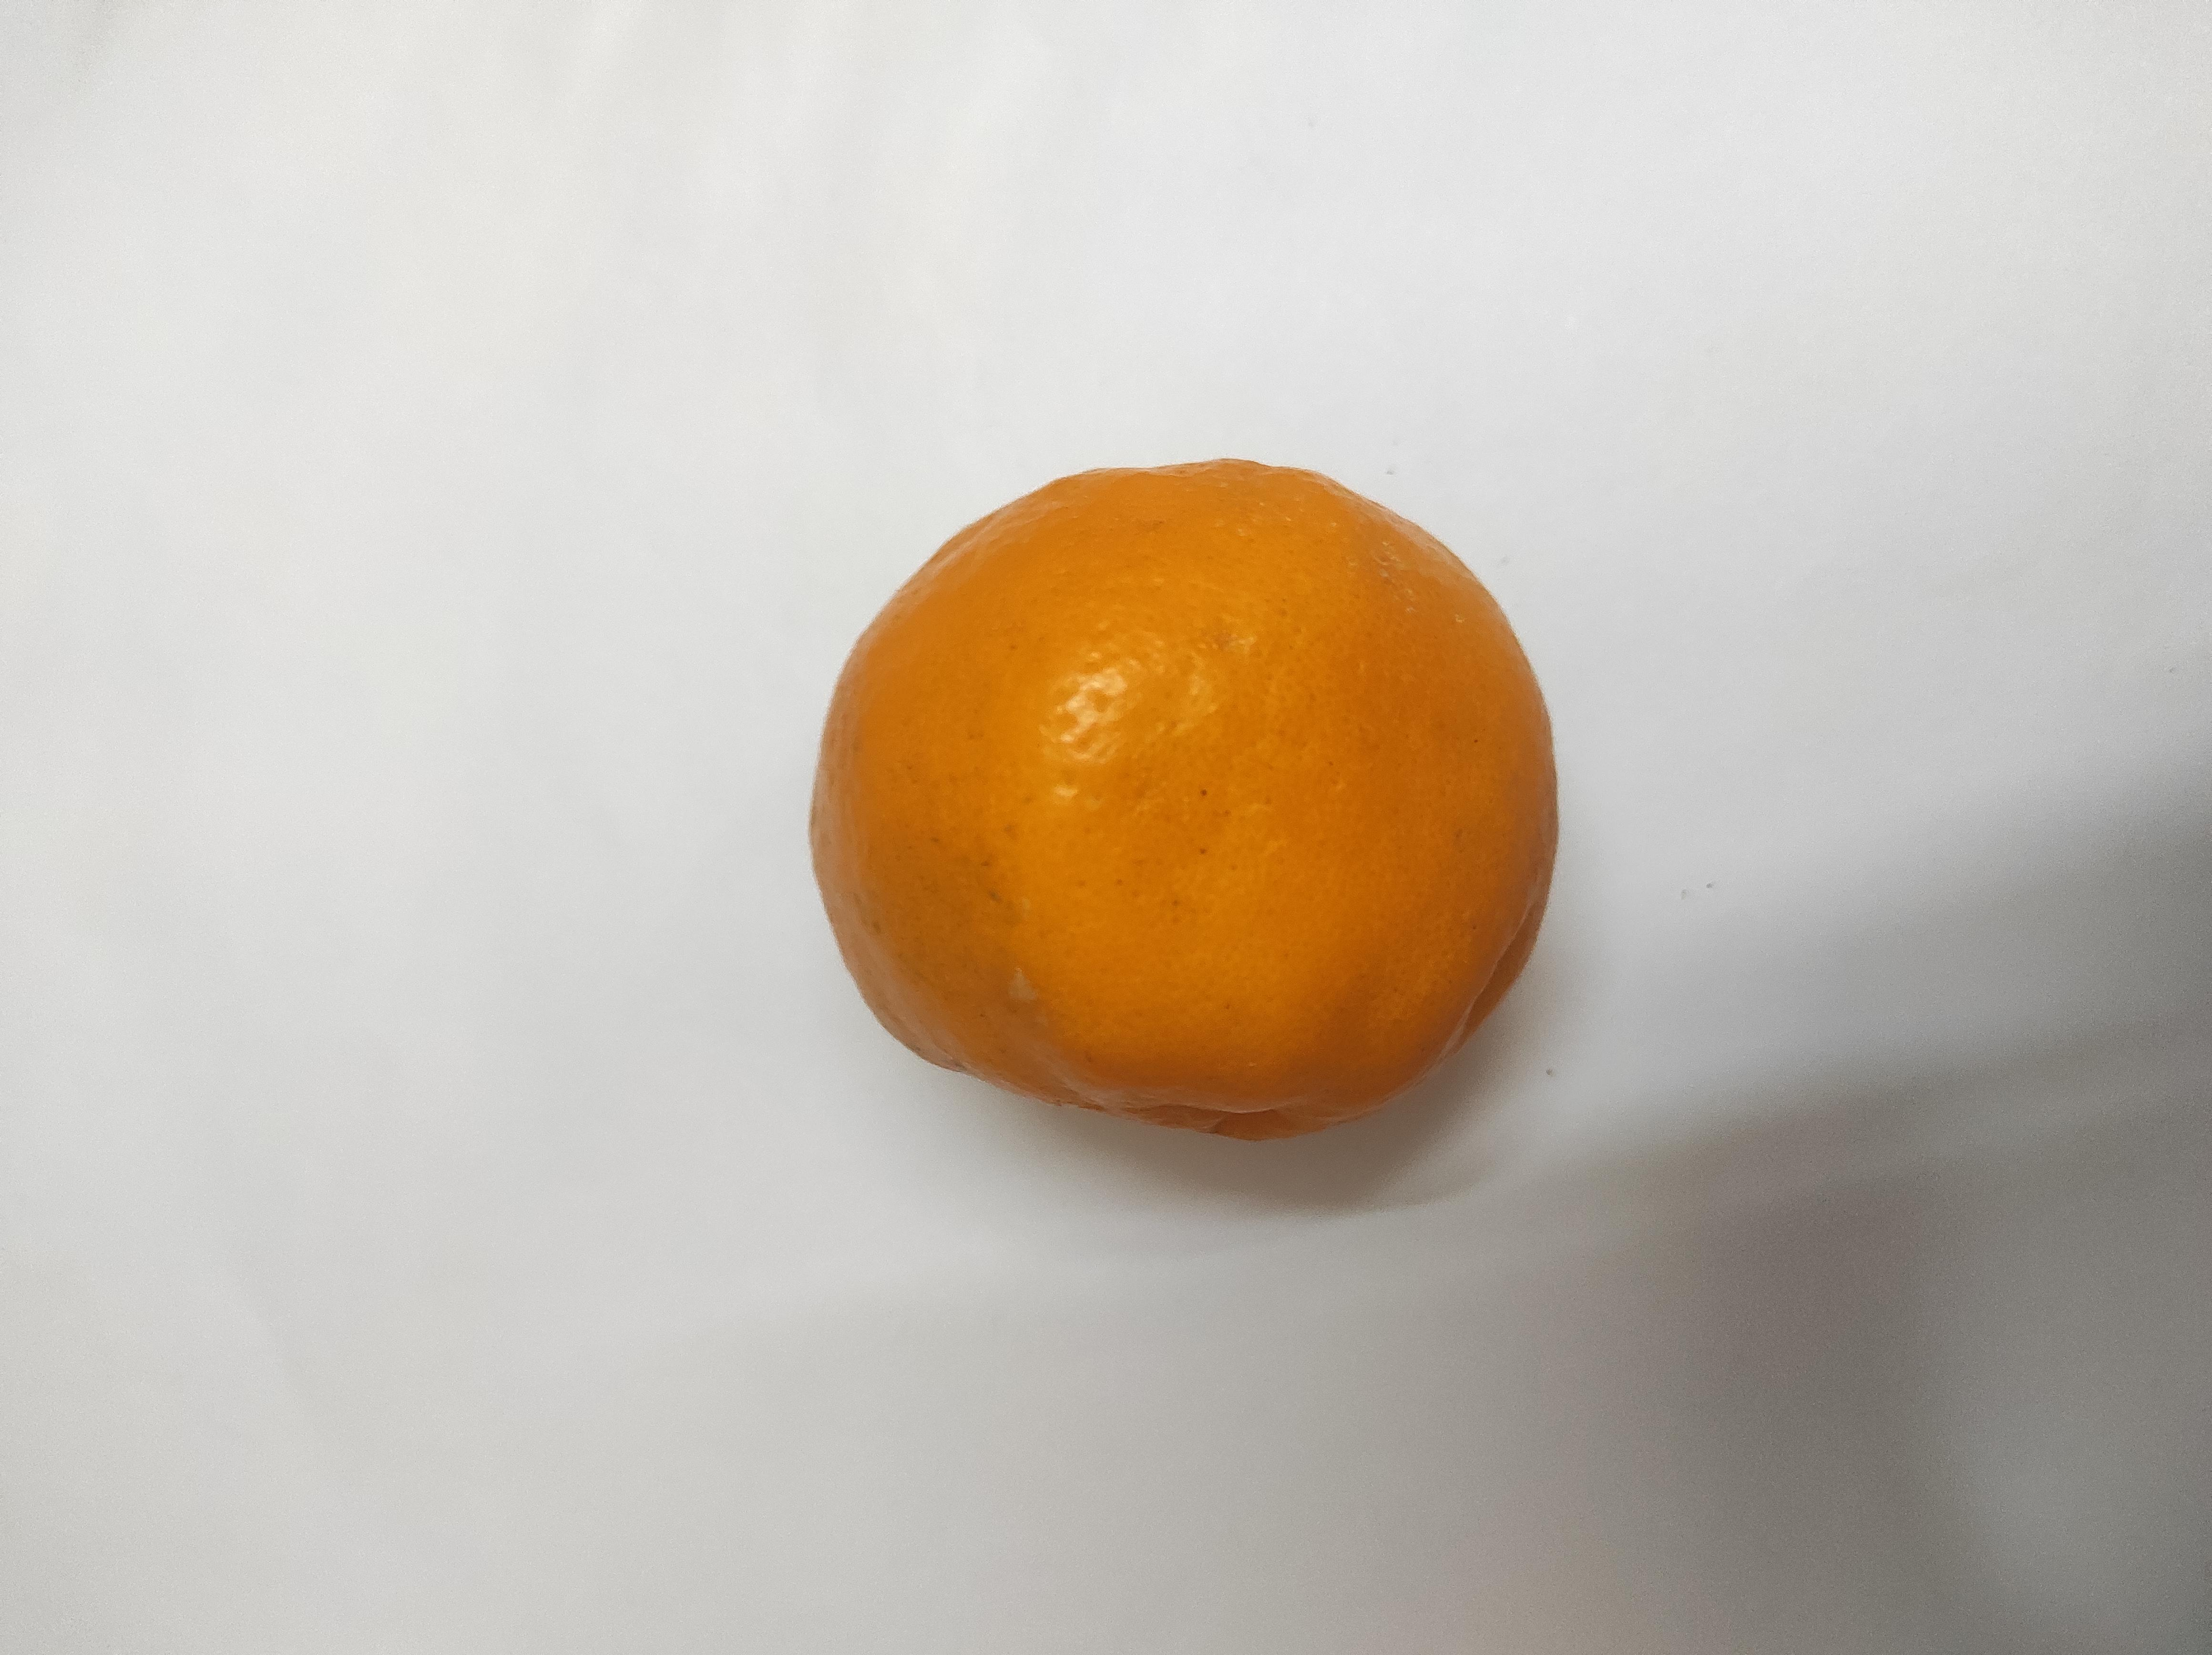Ripe: (708, 610, 1605, 1166)
